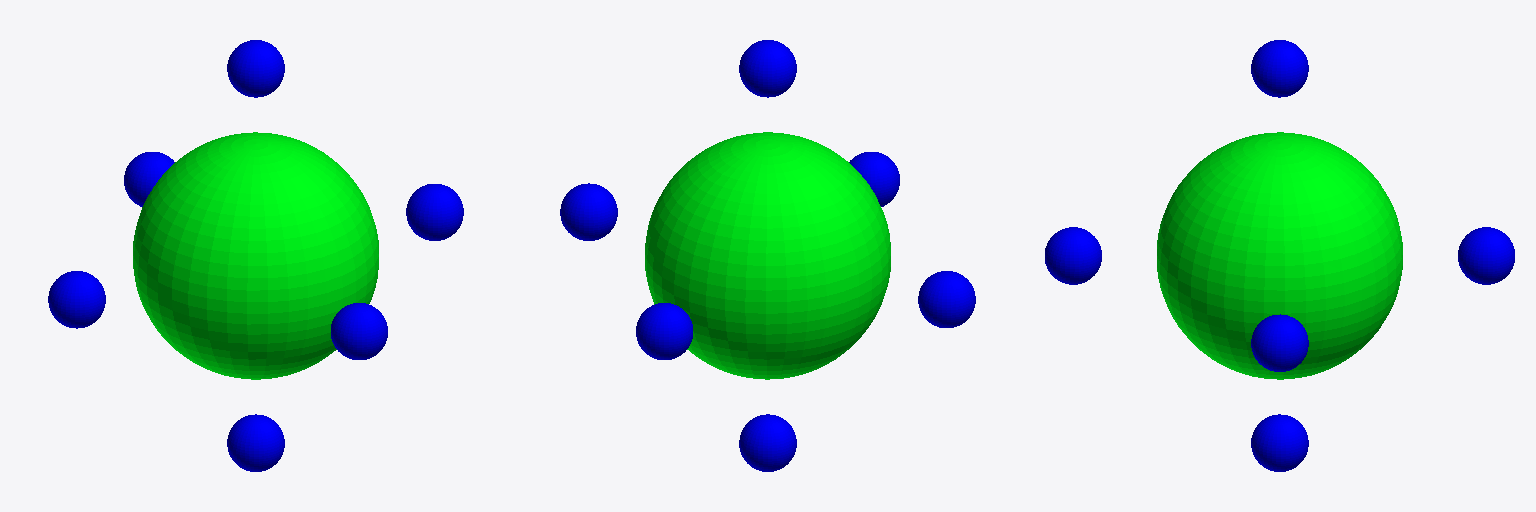
3 views of the same model, side by side, from view 1: azimuth 30°, elevation 25°; view 2: azimuth 150°, elevation 25°; view 3: azimuth 270°, elevation 25° (orthographic).
Visible parts, largest first — view 1: Sphere_Sphere.001, Sphere.002_Sphere.003, Sphere.001_Sphere.002, Sphere.003_Sphere.004, Sphere.006_Sphere.007, Sphere.005_Sphere.006, Sphere.004_Sphere.005; view 2: Sphere_Sphere.001, Sphere.006_Sphere.007, Sphere.001_Sphere.002, Sphere.003_Sphere.004, Sphere.002_Sphere.003, Sphere.004_Sphere.005, Sphere.005_Sphere.006; view 3: Sphere_Sphere.001, Sphere.001_Sphere.002, Sphere.003_Sphere.004, Sphere.006_Sphere.007, Sphere.004_Sphere.005, Sphere.005_Sphere.006.
Boxes of the visible parts, <box> form: Sphere_Sphere.001: <box>133,132,378,379</box>; Sphere.002_Sphere.003: <box>48,271,105,328</box>; Sphere.001_Sphere.002: <box>227,40,284,97</box>; Sphere.003_Sphere.004: <box>227,414,284,471</box>; Sphere.006_Sphere.007: <box>406,184,463,240</box>; Sphere.005_Sphere.006: <box>331,303,387,359</box>; Sphere.004_Sphere.005: <box>124,152,174,206</box>; Sphere_Sphere.001: <box>645,132,890,379</box>; Sphere.006_Sphere.007: <box>560,183,617,240</box>; Sphere.001_Sphere.002: <box>739,40,796,97</box>; Sphere.003_Sphere.004: <box>739,414,796,471</box>; Sphere.002_Sphere.003: <box>918,271,975,327</box>; Sphere.004_Sphere.005: <box>636,303,692,359</box>; Sphere.005_Sphere.006: <box>849,152,899,206</box>; Sphere_Sphere.001: <box>1157,132,1402,379</box>; Sphere.001_Sphere.002: <box>1251,40,1308,97</box>; Sphere.003_Sphere.004: <box>1251,414,1308,471</box>; Sphere.006_Sphere.007: <box>1251,314,1308,371</box>; Sphere.004_Sphere.005: <box>1458,227,1514,284</box>; Sphere.005_Sphere.006: <box>1045,227,1101,284</box>.
Size of the model in its own units: 0.7616 by 0.7618 by 0.7615.